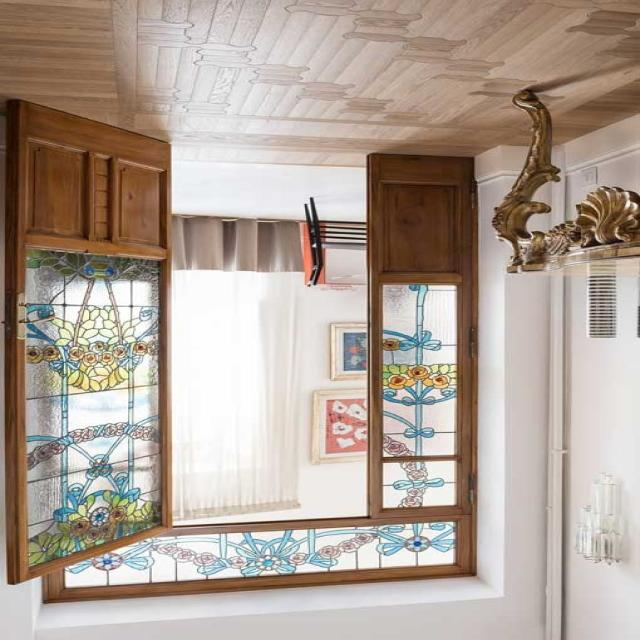door: (3, 100, 173, 585)
